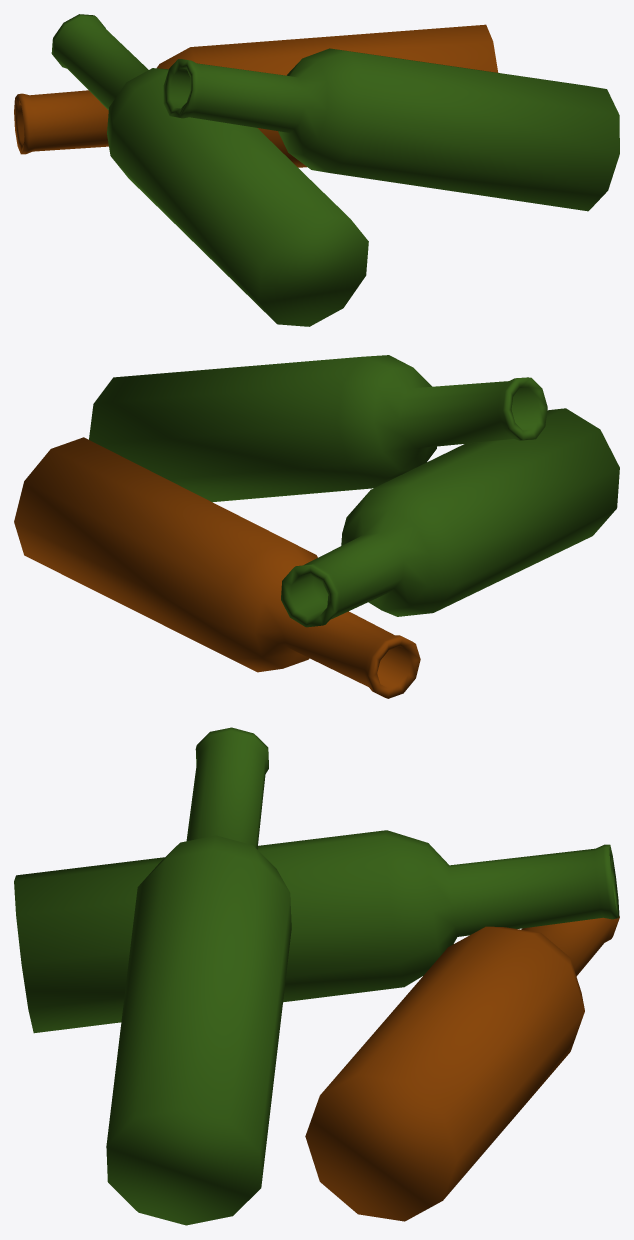
File: bottles.fbx
The picture shows the model from 3 angles, top to bottom: view 1: azimuth 30°, elevation 25°; view 2: azimuth 150°, elevation 25°; view 3: azimuth 270°, elevation 25°; orthographic projection. The views are drawn at different scales.
Visible parts, largest first — view 1: wine_bottle_2, wine_bottle, beer_bottle; view 2: wine_bottle_2, beer_bottle, wine_bottle; view 3: wine_bottle_2, wine_bottle, beer_bottle.
Boxes of the visible parts, x1,y1,x2,y2 form: wine_bottle_2: (163,48,619,211); wine_bottle: (51,14,368,326); beer_bottle: (14,24,498,167); wine_bottle_2: (89,355,547,502); beer_bottle: (14,437,420,698); wine_bottle: (281,408,619,627); wine_bottle_2: (106,727,291,1225); wine_bottle: (14,830,619,1033); beer_bottle: (305,916,619,1221).
Size of the model in its own units: 136 by 66.38 by 131.
